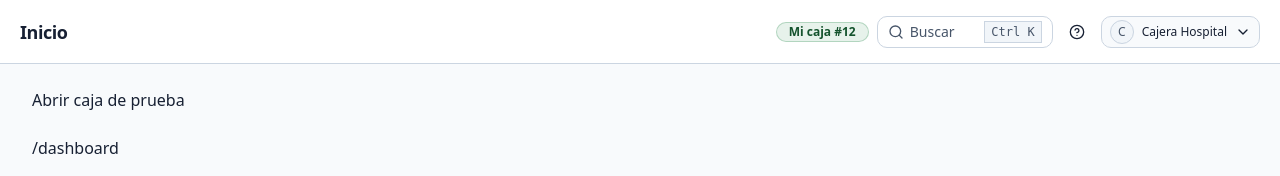
InstitutionalShell › restaura el inicio de la página al cambiar de ruta
Step 1. Click the link "Abrir caja de prueba" → (108, 100), box [32,89,185,111]
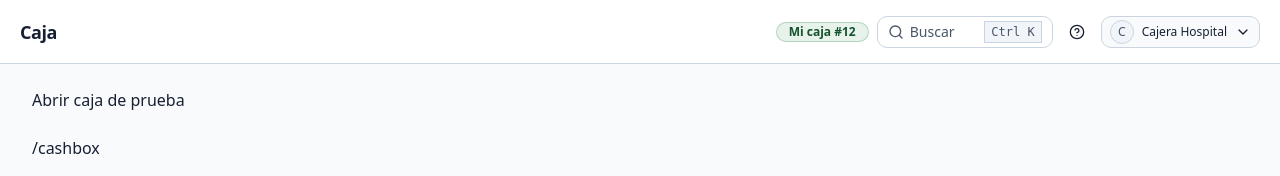
Expected: the text named "Ruta de prueba" reads "/cashbox", [32,137,100,159]
